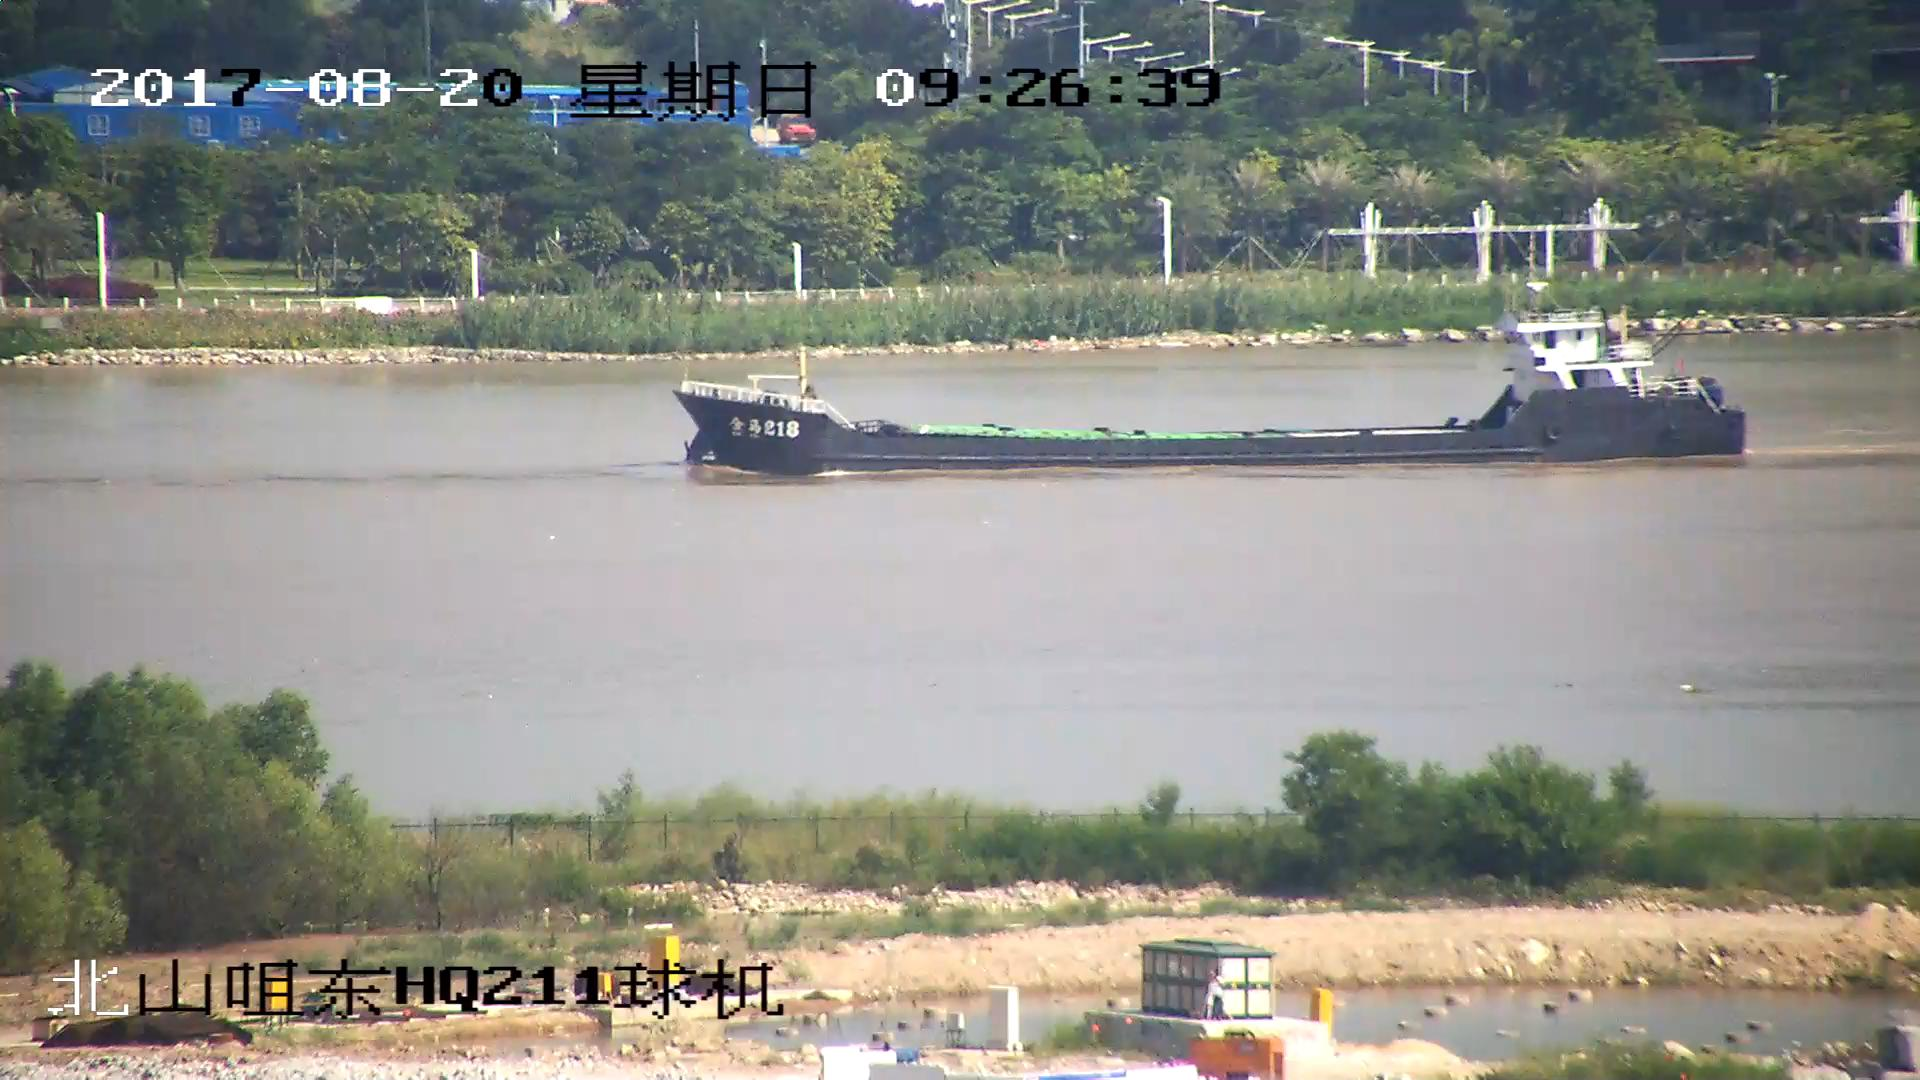general cargo ship: (679, 304, 1747, 470)
